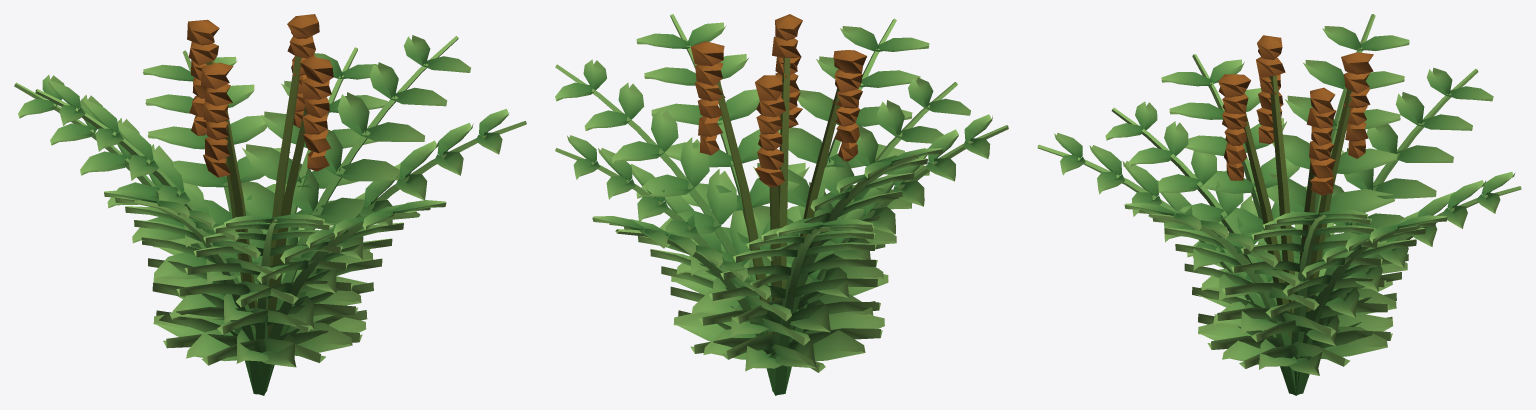
Rendered from fenfern.glb.
3 views of the same model, side by side, from view 1: azimuth 30°, elevation 25°; view 2: azimuth 150°, elevation 25°; view 3: azimuth 270°, elevation 25° (orthographic). The views are drawn at different scales.
Visible parts, largest first — view 1: fenfern; view 2: fenfern; view 3: fenfern.
Part boxes in pixels (x1,y1,x2,y2): fenfern: (14, 14, 526, 395); fenfern: (555, 14, 1008, 395); fenfern: (1037, 14, 1521, 395).
Bounding box in the file's own units: 1.17 × 0.991 × 1.32.
